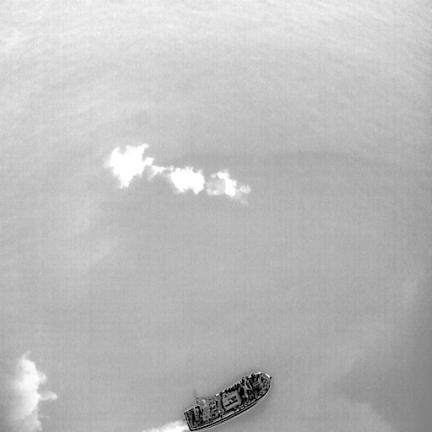flukeprints: (105, 144, 153, 186), (207, 171, 250, 197), (169, 167, 205, 193), (148, 165, 173, 177)
